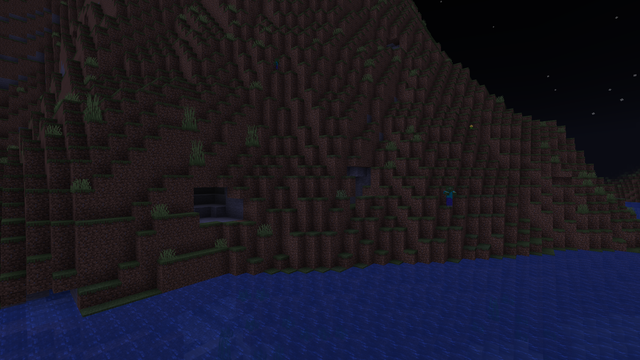zombies: (445, 186, 453, 206), (274, 59, 278, 70)
